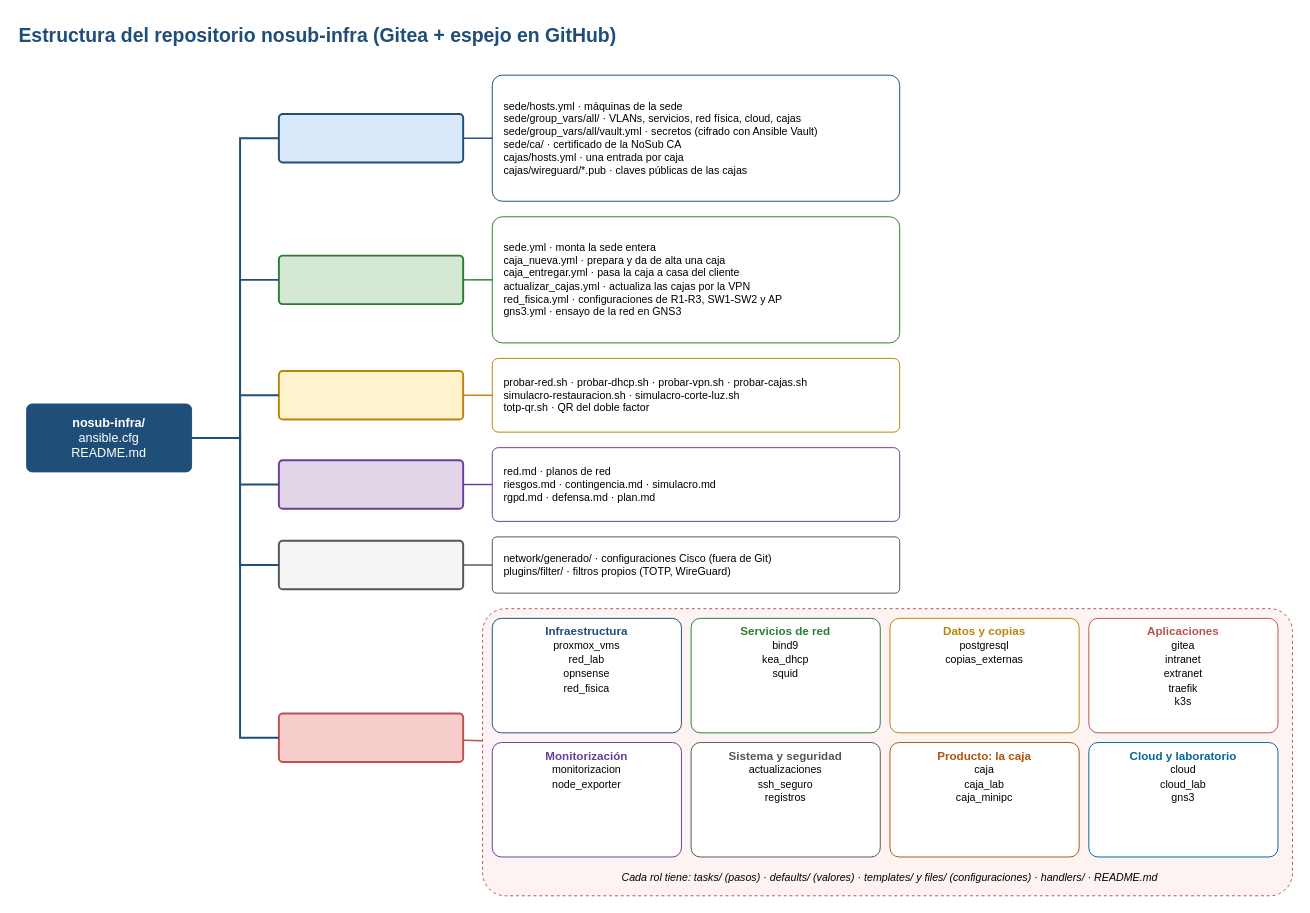
This 1310x913 diagram has some shape labels left out. The shapes that lost their labels are listed below. From the top down, each one's centre as x and y in pixels, then its label:
the point at 370,138: inventories/ Qué máquinas hay y sus datos
the point at 370,279: playbooks/ Qué se aplica y dónde
the point at 370,395: scripts/ Pruebas y simulacros
the point at 370,484: docs/ Documentación de la entrega
the point at 370,564: network/ · plugins/ Otros
the point at 370,737: roles/ 25 roles: uno por servicio
